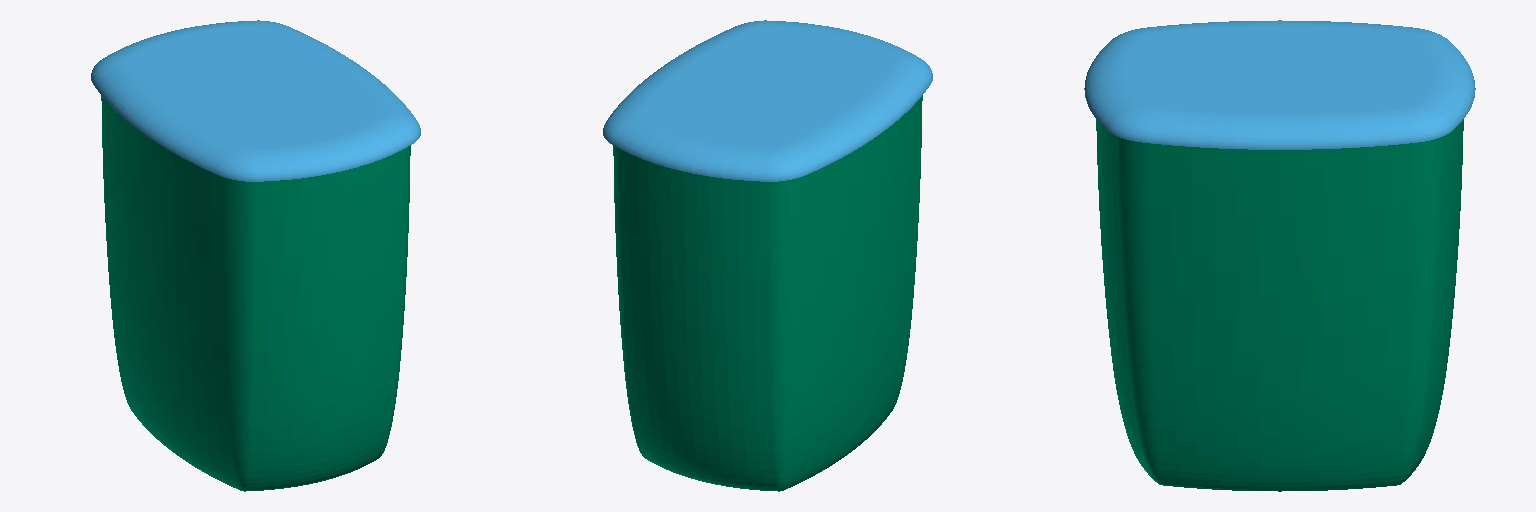
robot.urdf — partnet_5268d7d72312c3645fa85fb6e983b148:
<?xml version="1.0" ?>
<robot name="partnet_5268d7d72312c3645fa85fb6e983b148">
	<link name="base"/>
	    <contact>
      		<lateral_friction value="1.0"/>
      		<rolling_friction value="1"/>
      		<inertia_scaling value="3.0"/>
	    </contact>
	    <inertial>
	      <origin xyz="0. 0. 0." />
	      <mass value="100000000" />
	      <inertia ixx="0.001" ixy="0.0" ixz="0.0" iyy="0.001" iyz="0.0" izz="0.001" />
	    </inertial>
	<link name="link_0">
		<visual name="cover_lid-5">
			<origin xyz="0.0022665000000000046 0 0.0015525000000000122"/>
			<geometry>
				<mesh filename="textured_objs/original-2.obj"/>
			</geometry>
		</visual>
		<collision>
			<origin xyz="0.0022665000000000046 0 0.0015525000000000122"/>
			<geometry>
				<mesh filename="textured_objs/original-2.obj"/>
			</geometry>
		</collision>
	</link>
	<joint name="joint_0" type="prismatic">
		<origin xyz="-0.0022665000000000046 0 -0.0015525000000000122"/>
		<axis xyz="0 1 0"/>
		<child link="link_0"/>
		<parent link="link_1"/>
		<limit lower="0" upper="0.07600000000000007"/>
	</joint>
	<link name="link_1">
		<visual name="container_box-3">
			<origin xyz="0 0 0"/>
			<geometry>
				<mesh filename="textured_objs/new-2.obj"/>
			</geometry>
		</visual>
		<visual name="container_bottom-4">
			<origin xyz="0 0 0"/>
			<geometry>
				<mesh filename="textured_objs/new-1.obj"/>
			</geometry>
		</visual>
		<visual name="container_bottom-4">
			<origin xyz="0 0 0"/>
			<geometry>
				<mesh filename="textured_objs/new-0.obj"/>
			</geometry>
		</visual>
		<collision>
			<origin xyz="0 0 0"/>
			<geometry>
				<mesh filename="textured_objs/new-2.obj"/>
			</geometry>
		</collision>
		<collision>
			<origin xyz="0 0 0"/>
			<geometry>
				<mesh filename="textured_objs/new-1.obj"/>
			</geometry>
		</collision>
		<collision>
			<origin xyz="0 0 0"/>
			<geometry>
				<mesh filename="textured_objs/new-0.obj"/>
			</geometry>
		</collision>
	</link>
	<joint name="joint_1" type="fixed">
		<origin rpy="1.570796326794897 0 -1.570796326794897" xyz="0 0 0"/>
		<child link="link_1"/>
		<parent link="base"/>
	</joint>
</robot>

--- What the picture shows (computed from the rendered views, not written in the file) ---
Views: 3 orthographic renders of the robot side by side, from view 1: azimuth 30°, elevation 25°; view 2: azimuth 150°, elevation 25°; view 3: azimuth 270°, elevation 25°.
Model partnet_5268d7d72312c3645fa85fb6e983b148 with 3 links and 2 joints (1 prismatic, 1 fixed), rooted at base, posed every joint at zero.
Links seen in each view (by area): view 1: link_1, link_0; view 2: link_1, link_0; view 3: link_1, link_0.
Boxes of the visible links, x1,y1,x2,y2 form: link_1: [101, 95, 410, 491]; link_0: [91, 20, 420, 181]; link_1: [613, 95, 922, 491]; link_0: [603, 20, 932, 181]; link_1: [1096, 119, 1463, 491]; link_0: [1084, 20, 1475, 149].
Size in the robot's own frame: 1.09 by 1.48 by 1.58 metres.
4 mesh visuals loaded from 4 distinct referenced files (4 OBJ).